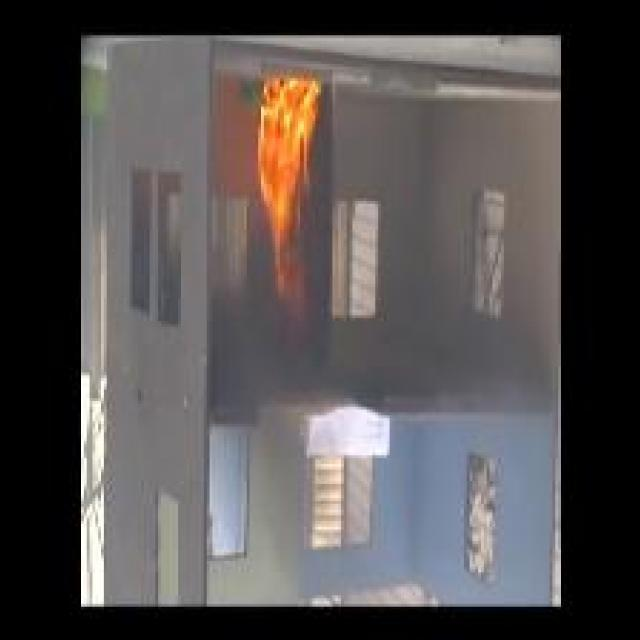Fire: (257, 74, 320, 306)
